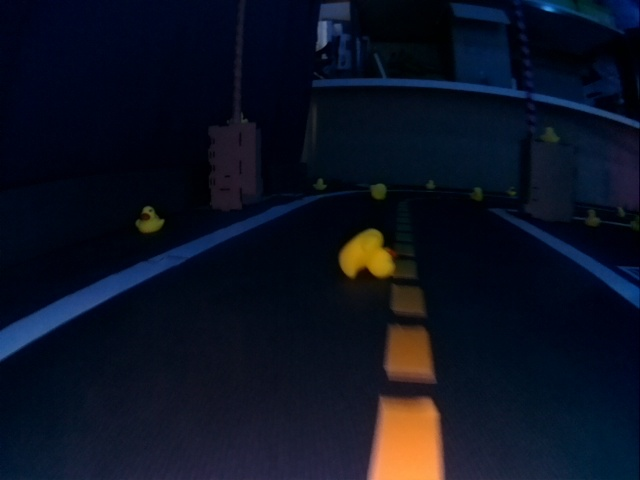Duckie: (339, 230, 396, 277), (136, 206, 163, 232), (370, 182, 389, 200), (542, 127, 559, 142), (586, 209, 599, 224), (314, 177, 325, 190), (471, 188, 482, 199), (427, 180, 437, 189), (508, 187, 516, 196), (618, 206, 626, 213)
